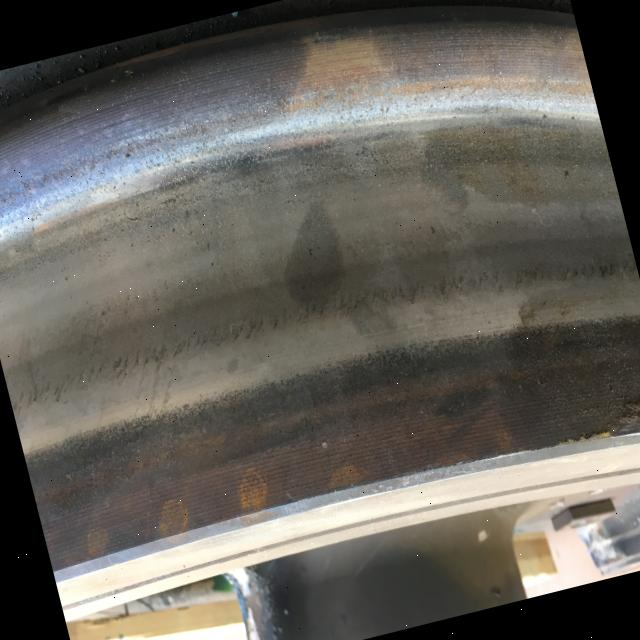Contact_Fatigue_Cracks: (108, 279, 429, 378), (511, 249, 601, 306), (8, 363, 115, 409), (437, 260, 505, 297)
